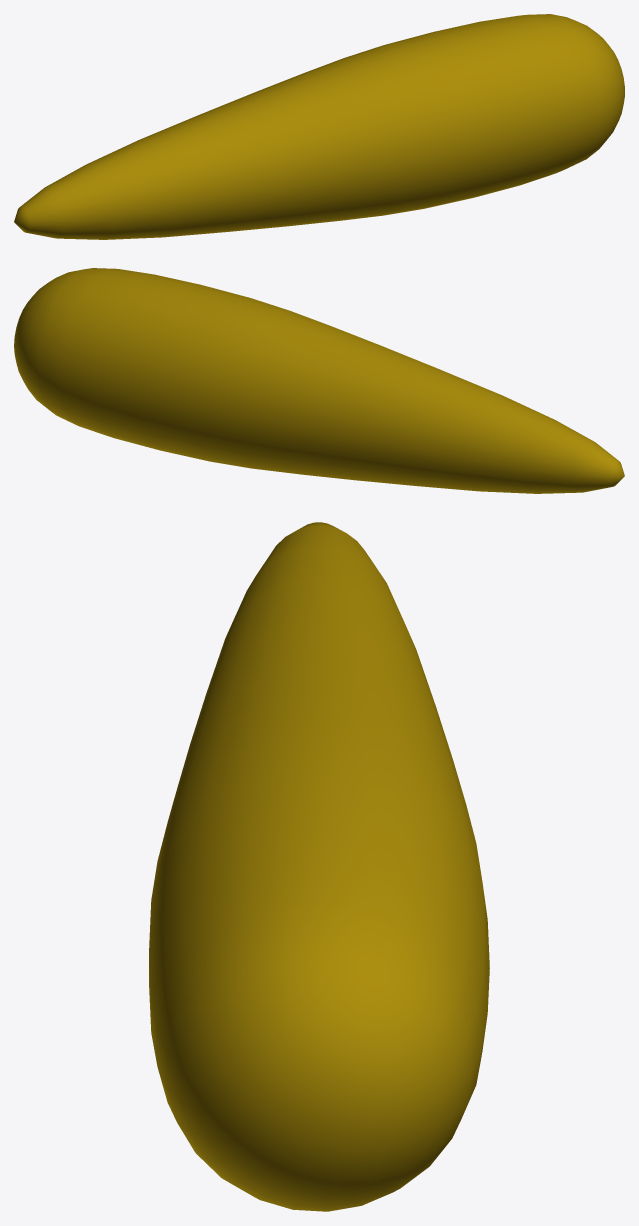
The model's file is RifleBullet.fbx.
3 views of the same model, one above another, from view 1: azimuth 30°, elevation 25°; view 2: azimuth 150°, elevation 25°; view 3: azimuth 270°, elevation 25° (orthographic). The views are drawn at different scales.
Parts seen in each view (by area): view 1: SM_Projectile.001; view 2: SM_Projectile.001; view 3: SM_Projectile.001.
Boxes of the visible parts, x1,y1,x2,y2 form: SM_Projectile.001: [14, 14, 624, 239]; SM_Projectile.001: [14, 268, 624, 493]; SM_Projectile.001: [149, 522, 489, 1211].
Size of the model in its own units: 8107 by 1996 by 1992.
1 material, 1 textured.
